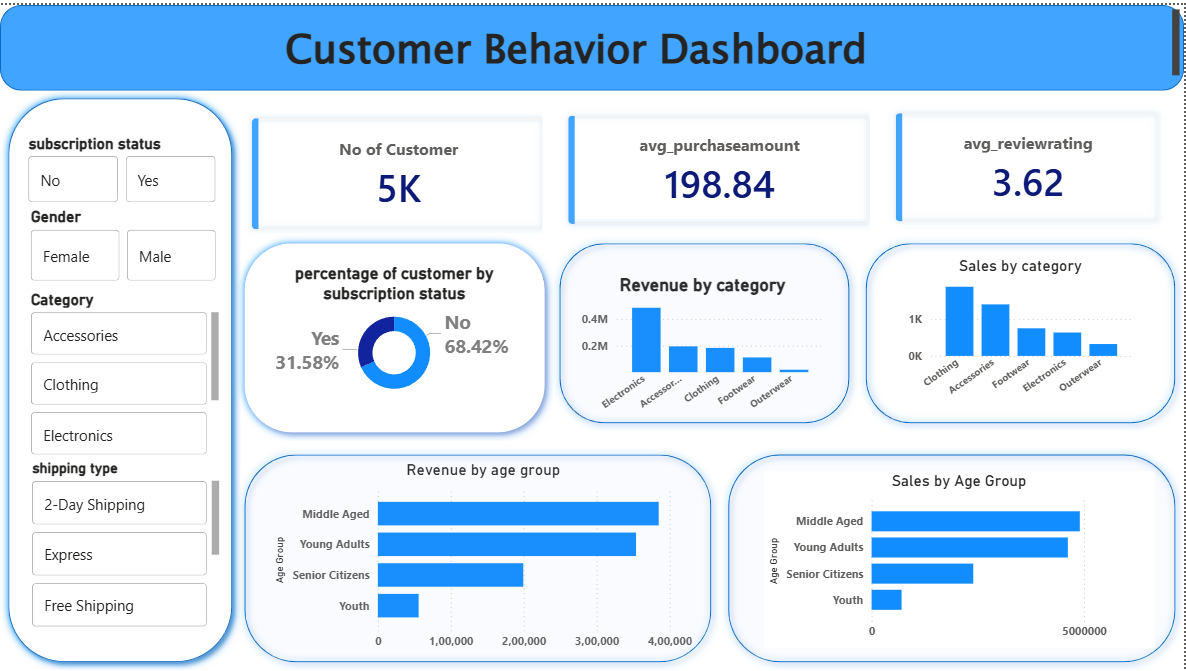

Layout of this report page (visuals, bound fields, positions):
{"tool":"powerbi","page":{"name":"Page 1","canvas":[1280,720],"ordinal":0},"visuals":[{"type":"cardVisual","fields":{"Data":["cleaned_data (3).No of Customer"]},"box":[245,95,371.2,176.2],"z":0},{"type":"cardVisual","fields":{"Data":["cleaned_data (3).avg_purchaseamount"]},"box":[586.2,92.5,381.2,173.8],"z":1000},{"type":"cardVisual","fields":{"Data":["cleaned_data (3).avg_reviewrating"]},"box":[940,88.8,340,173.8],"z":2000},{"type":"shape","box":[0,0,1280,92.5],"z":3000},{"type":"textbox","box":[0,0,1280,86.2],"z":4000},{"type":"shape","box":[255,248.8,342.5,222.5],"z":5000},{"type":"donutChart","title":"percentage of customer by subscription status ","fields":{"Category":["cleaned_data (3).subscription_status"],"Y":["CountNonNull(cleaned_data (3).customer_id)"]},"box":[291.2,280,268.8,151.2],"z":6000},{"type":"clusteredColumnChart","title":"Revenue by category ","fields":{"Category":["cleaned_data (3).category"],"Y":["cleaned_data (3).Total Revenue"]},"box":[628.8,292.5,267.5,156.2],"z":7000},{"type":"shape","box":[596.2,248.8,331.2,212.5],"z":7001},{"type":"shape","box":[927.5,248.8,352.5,212.5],"z":7002},{"type":"clusteredColumnChart","title":"Sales by category","fields":{"Category":["cleaned_data (3).category"],"Y":["Count(cleaned_data (3).customer_id)"]},"box":[977.5,271.2,252.5,160],"z":7003},{"type":"shape","box":[0,92.5,260,627.5],"z":7004},{"type":"advancedSlicerVisual","title":"subscription status","fields":{"Values":["cleaned_data (3).subscription_status"]},"box":[25,138.8,213.8,80],"z":7005},{"type":"advancedSlicerVisual","title":"Gender","fields":{"Values":["cleaned_data (3).gender"]},"box":[28.8,218.8,210,85],"z":7006},{"type":"advancedSlicerVisual","title":"Category","fields":{"Values":["cleaned_data (3).category"]},"box":[28.8,308.8,213.8,183.8],"z":7007},{"type":"advancedSlicerVisual","title":"shipping type ","fields":{"Values":["cleaned_data (3).shipping_type"]},"box":[30,492.5,212.5,187.5],"z":7008},{"type":"clusteredBarChart","title":"Revenue by age group ","fields":{"Category":["cleaned_data (3).Age Group"],"Y":["Sum(cleaned_data (3).purchase_amount)"]},"box":[291.2,492.5,461.2,213.8],"z":7009},{"type":"shape","box":[255,477.5,522.5,242.5],"z":7010},{"type":"shape","box":[778.8,477.5,501.2,242.5],"z":7011},{"type":"clusteredBarChart","title":"Sales by Age Group","fields":{"Category":["cleaned_data (3).Age Group"],"Y":["Sum(cleaned_data (3).customer_id)"]},"box":[826.2,503.8,422.5,191.2],"z":7012}]}

Visuals, with their boxes in screenshot pixels (x1, y1, x2, y2), scaled from the page's 1280x720 canvas onto the 1186x671 screenshot:
cardVisual - cleaned_data (3).No of Customer: [227,89,571,253]
cardVisual - cleaned_data (3).avg_purchaseamount: [543,86,896,248]
cardVisual - cleaned_data (3).avg_reviewrating: [871,83,1185,245]
shape: [0,0,1185,86]
textbox: [0,0,1185,80]
shape: [236,232,554,439]
"percentage of customer by subscription status " donutChart: [270,261,519,402]
"Revenue by category " clusteredColumnChart: [583,273,830,418]
shape: [552,232,859,430]
shape: [859,232,1185,430]
"Sales by category" clusteredColumnChart: [906,253,1140,402]
shape: [0,86,241,670]
"subscription status" advancedSlicerVisual: [23,129,221,204]
"Gender" advancedSlicerVisual: [27,204,221,283]
"Category" advancedSlicerVisual: [27,288,225,459]
"shipping type " advancedSlicerVisual: [28,459,225,634]
"Revenue by age group " clusteredBarChart: [270,459,697,658]
shape: [236,445,720,670]
shape: [722,445,1185,670]
"Sales by Age Group" clusteredBarChart: [766,470,1157,648]
